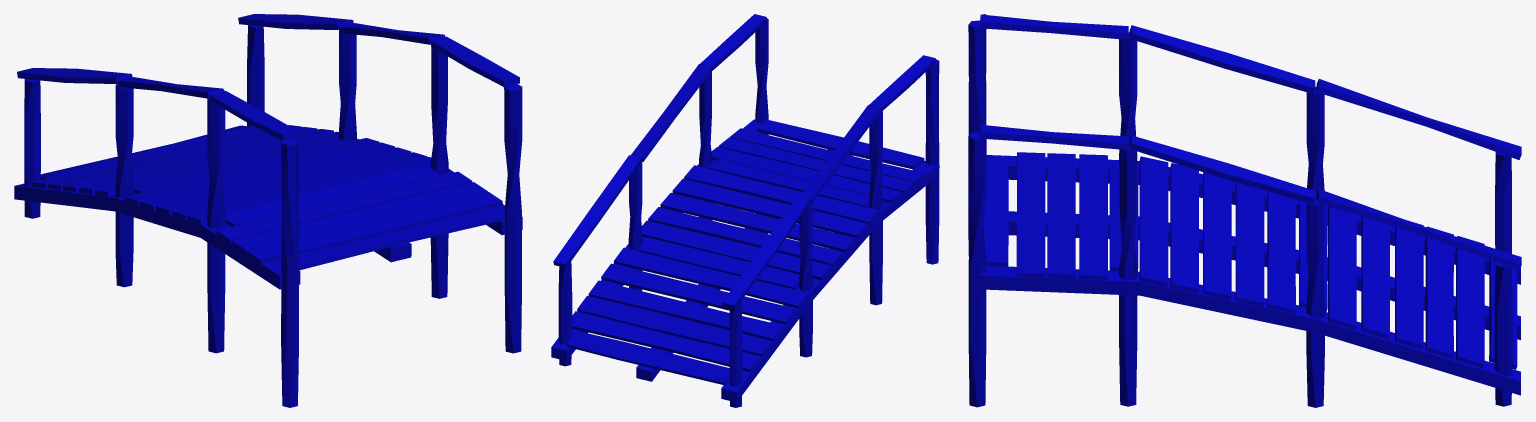
The model's file is Bridge_FIRST_blue.fbx.
The picture shows the model from 3 angles, left to right: view 1: azimuth 30°, elevation 25°; view 2: azimuth 150°, elevation 25°; view 3: azimuth 270°, elevation 25°; orthographic projection. The views are drawn at different scales.
Parts seen in each view (by area): view 1: polySurface349; view 2: polySurface349; view 3: polySurface349.
Boxes of the visible parts, <box> form: polySurface349: <box>14,14,522,407</box>; polySurface349: <box>551,14,939,407</box>; polySurface349: <box>968,14,1521,407</box>.
Size of the model in its own units: 15.27 by 16.23 by 29.49.
